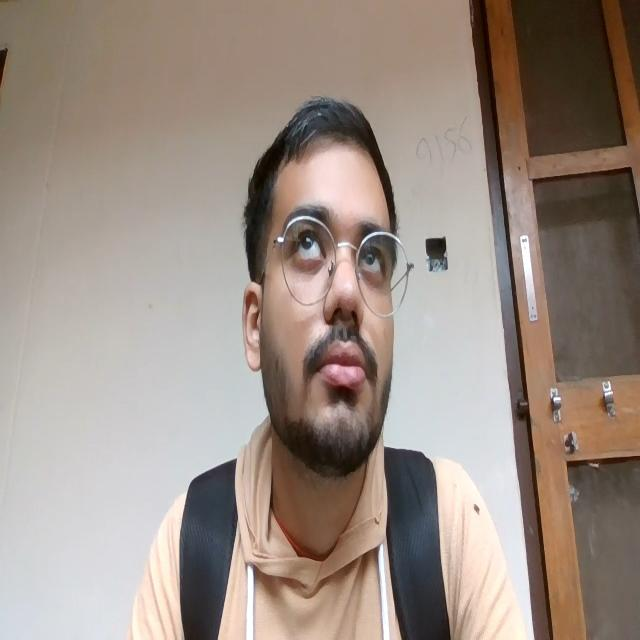awake: (275, 200, 393, 412)
